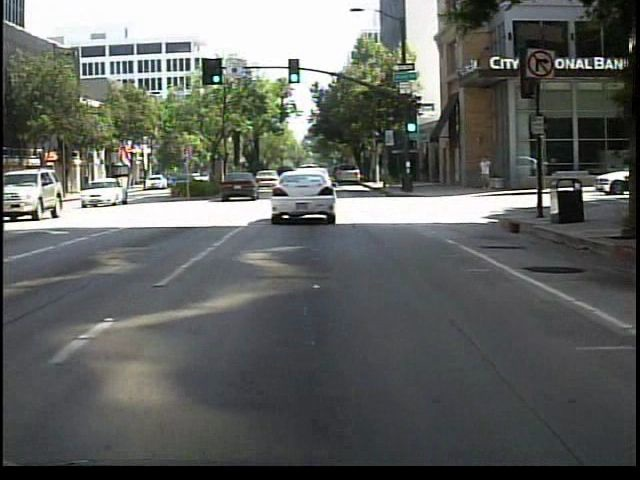person: (477, 154, 495, 194)
